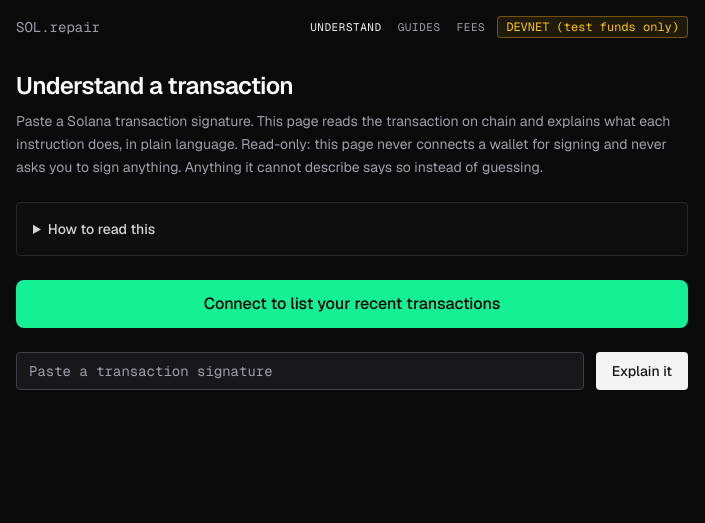
Scenario: understand page outcomes › shows an honest read failure, naming both possible causes, with the raw detail behind a disclosure
Type "2V4dcrHEApzHDS9PqxWo1KeeK8a3HvVLyPsxVfq3yEktjdqH8NX77nzGZVT4QXTaVy8sWvszA8xDx8N2UrYGfrcw" into the field labelled "Paste a transaction signature".
click(300, 371); type("2V4dcrHEApzHDS9PqxWo1KeeK8a3HvVLyPsxVfq3yEktjdqH8NX77nzGZVT4QXTaVy8sWvszA8xDx8N2UrYGfrcw")  # box 16,352 -> 584,390
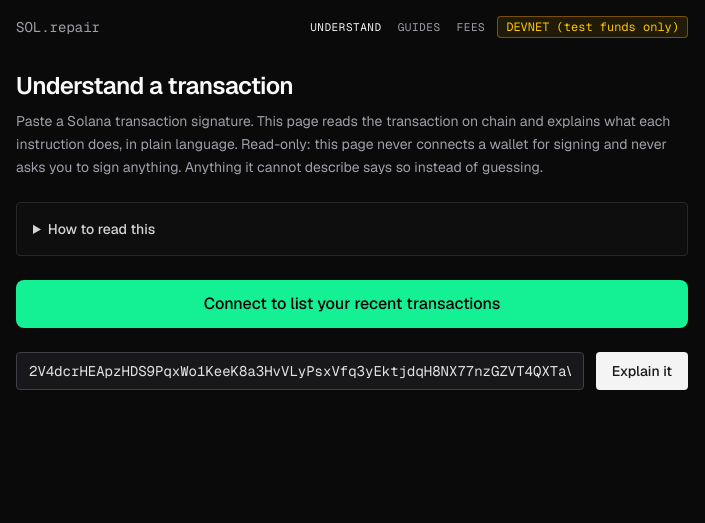
Click the button "Explain it".
click(642, 371)  # box 596,352 -> 688,390
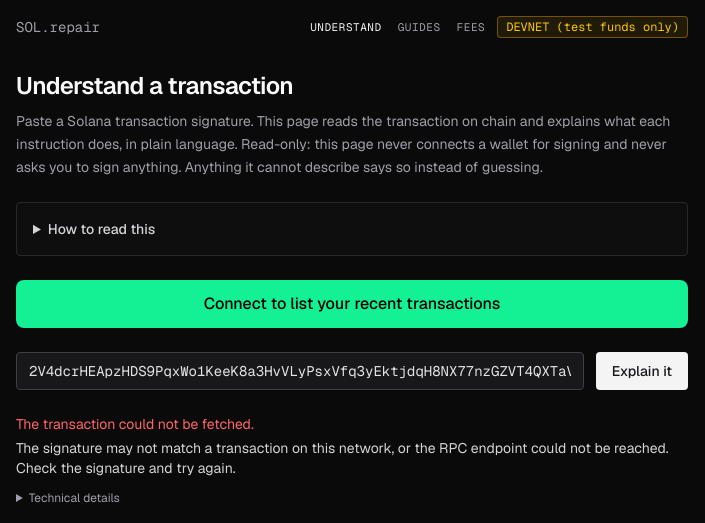
Check: the text "The transaction could not be fetched." is shown, box 16,415 -> 254,433
Check: the text "may not match a transaction on this network, or the RPC endpoint could not be reached" is shown, box 16,439 -> 669,477
Check: the heading "Technical details" is shown, box 29,490 -> 120,506
